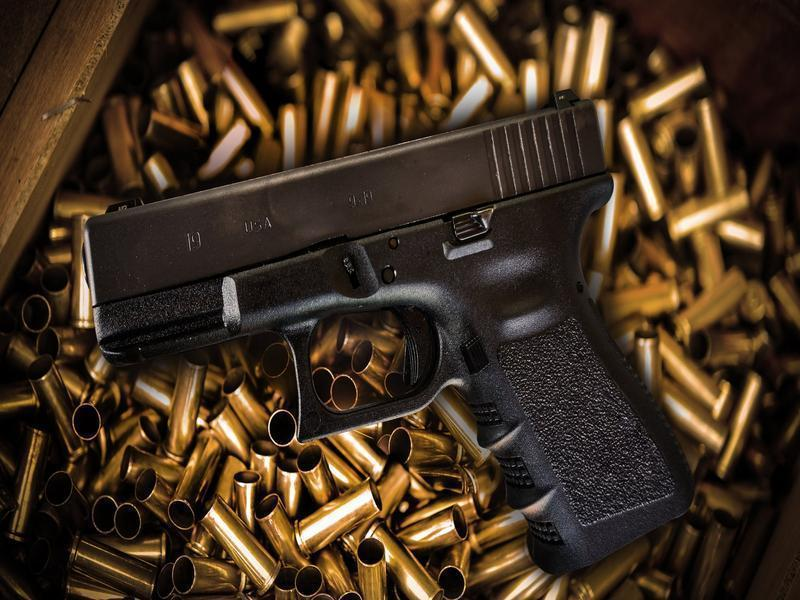GUN: (76, 87, 700, 576)
